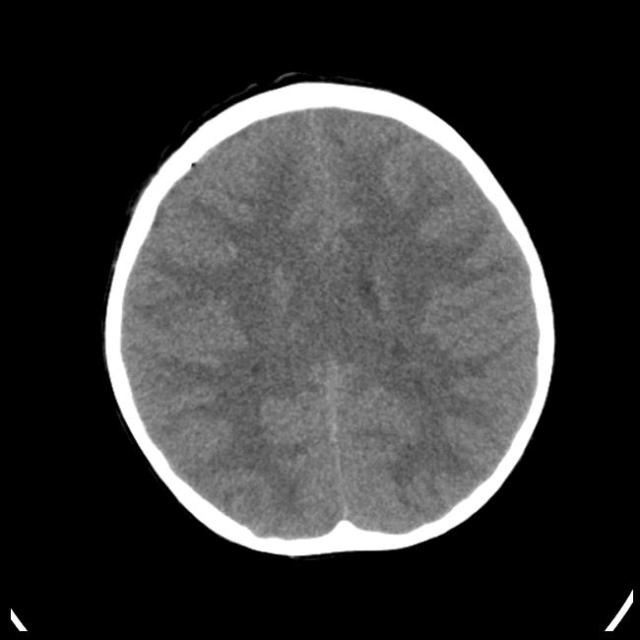lesion: (102, 76, 558, 557)
